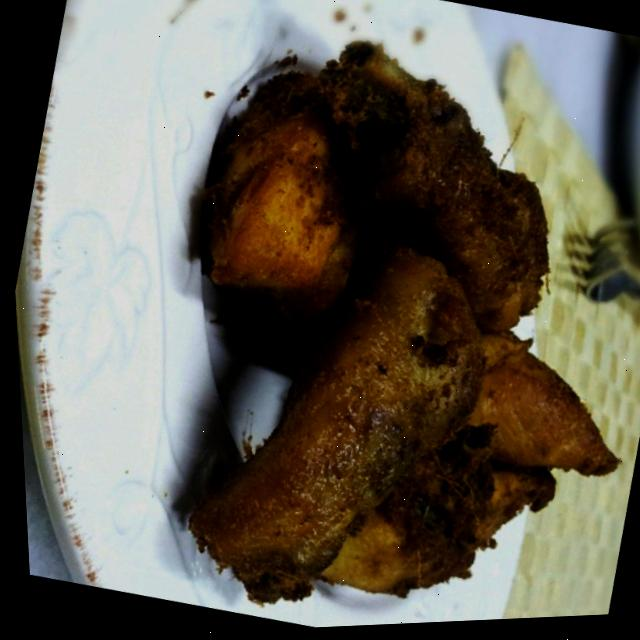鸡肉料理 含炸鸡: (54, 0, 640, 638)
